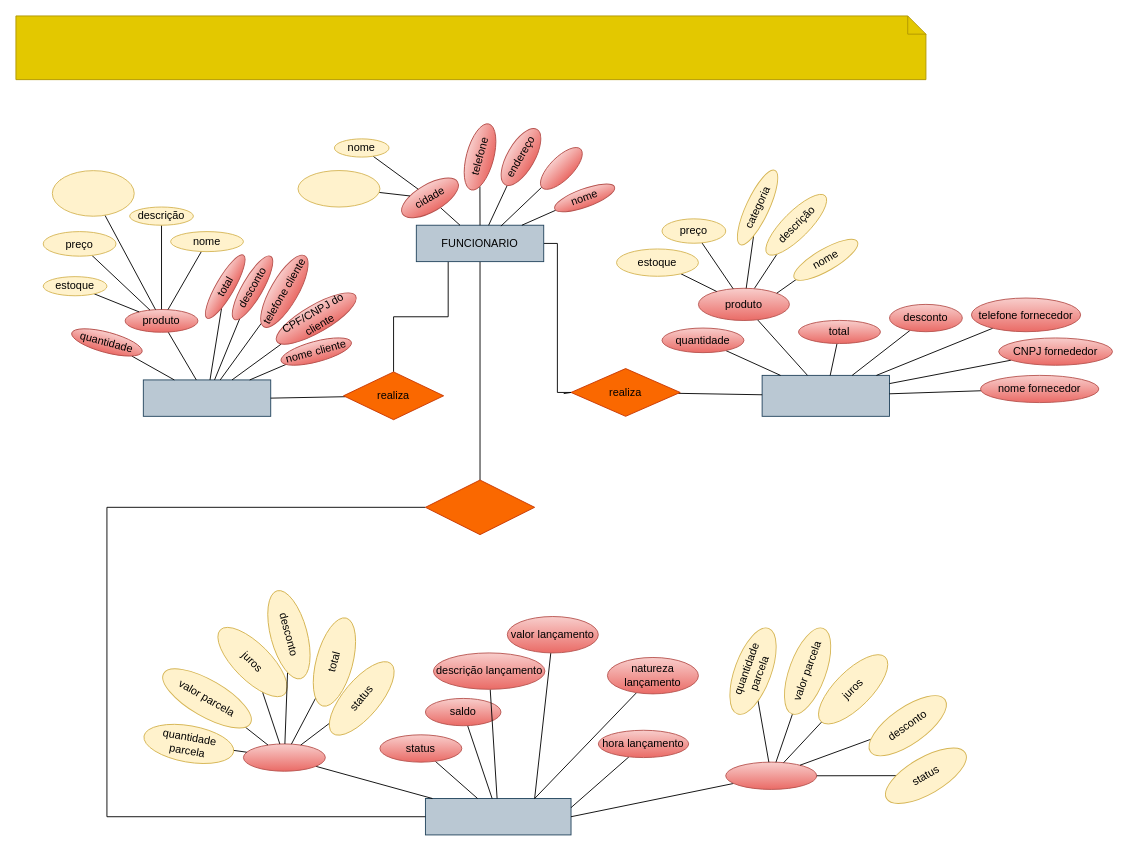
Some shapes in this 1128 by 851 pixel diagram are drawn without their labels. Here are the shapes that lost their labels. From the top down, the box of each, then its label:
(15, 15, 926, 80): PROJETO CAIXA SUPERMERCADO
(533, 140, 589, 196): cpf
(51, 170, 134, 216): categoria (nome e descrição
(297, 170, 380, 207): estado (nome e sigla)
(142, 379, 271, 416): VENDA
(761, 374, 890, 416): COMPRA
(425, 479, 535, 535): gerencia
(243, 743, 325, 771): pagamento
(725, 761, 817, 789): recebimento
(425, 798, 571, 835): CAIXA
